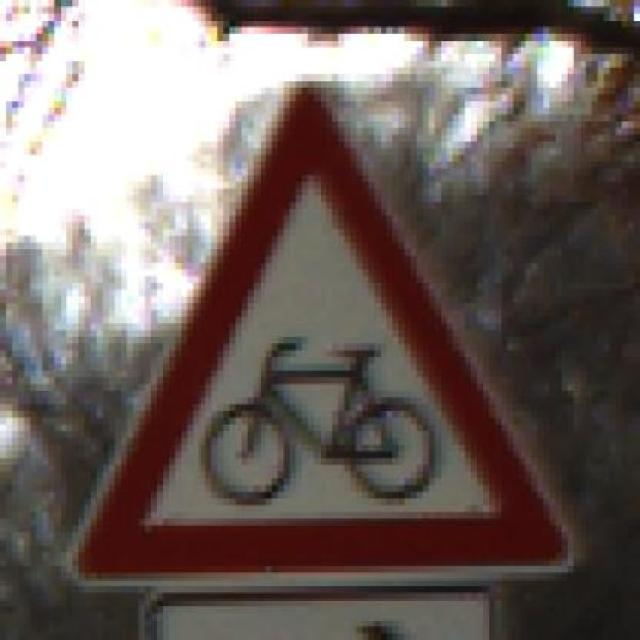CYCLE ROUTE AHEAD WARNING: (66, 74, 586, 586)
